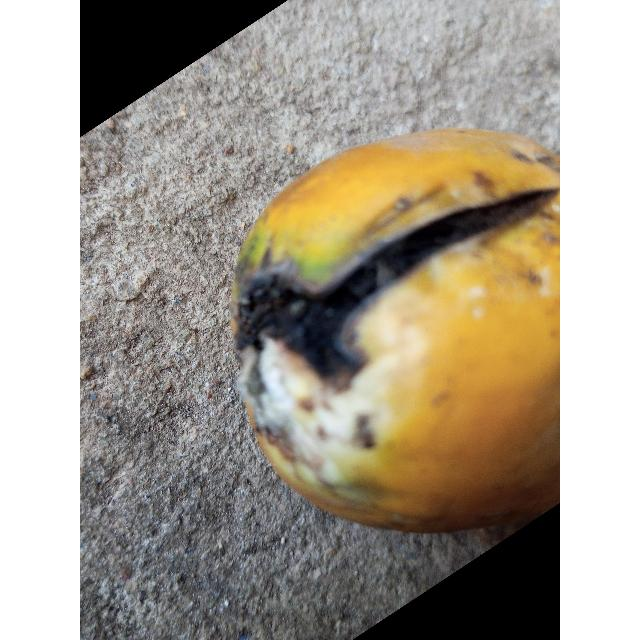damaged: (231, 129, 560, 532)
